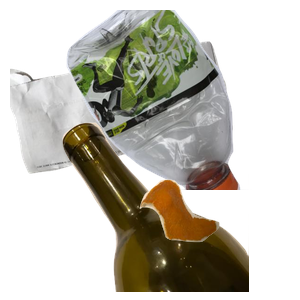glass: (60, 120, 300, 300)
paper: (10, 39, 236, 205)
plastic: (64, 10, 300, 190)
trash: (137, 177, 300, 300)
